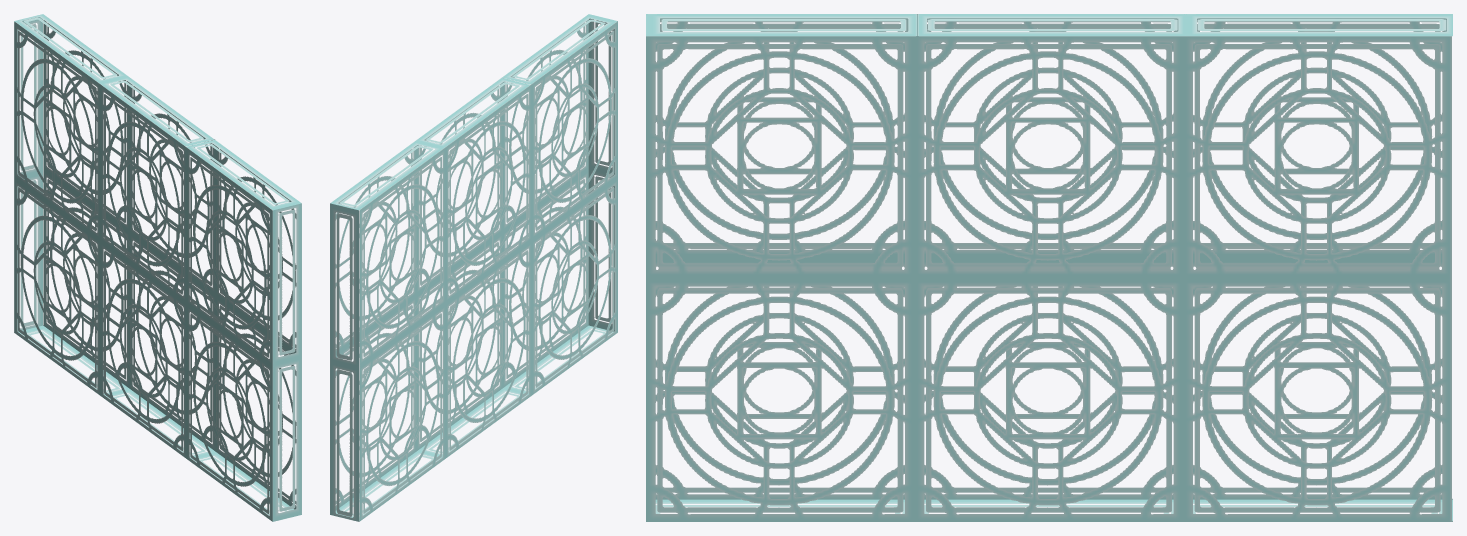
Rendered from Plat_Wall.obj.
The picture shows the model from 3 angles, left to right: view 1: azimuth 30°, elevation 25°; view 2: azimuth 150°, elevation 25°; view 3: azimuth 270°, elevation 25°; orthographic projection. The views are drawn at different scales.
Visible parts, largest first — view 1: pCube41; view 2: pCube41; view 3: pCube41.
Part boxes in pixels (x1=…): pCube41: x1=14, y1=14, x2=301, y2=521; pCube41: x1=330, y1=14, x2=617, y2=521; pCube41: x1=646, y1=14, x2=1452, y2=521.
Size of the model in its own units: 0.978 by 9.97 by 15.
